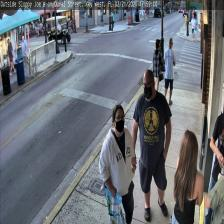person: (131, 69, 171, 219), (99, 105, 136, 224), (170, 130, 202, 224), (163, 37, 176, 102), (153, 38, 164, 92)
